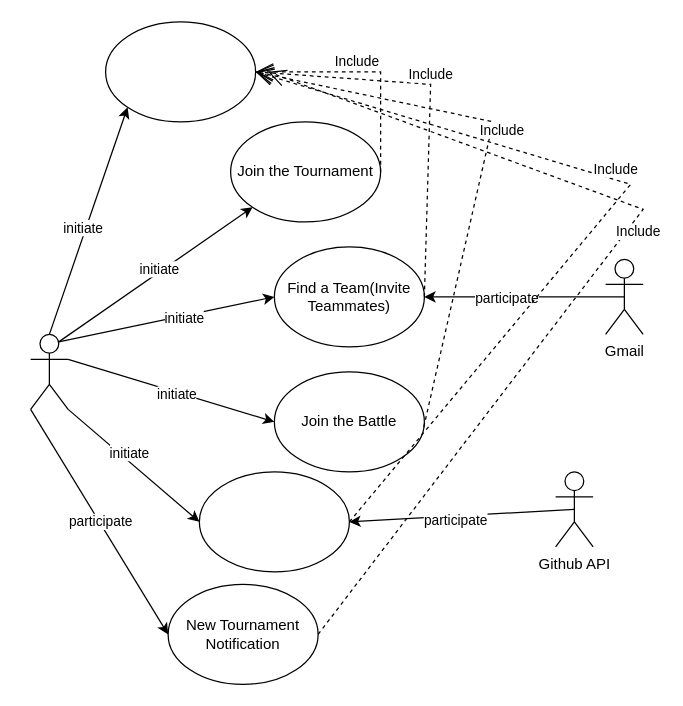
This 683x706 diagram has some shape labels left out. Here are the shapes that lost their labels. From the top down, the centre of each, then its label:
At (x=180, y=71): "Login".
At (x=48, y=371): "Student".
At (x=273, y=521): "Commit the Code kata".
